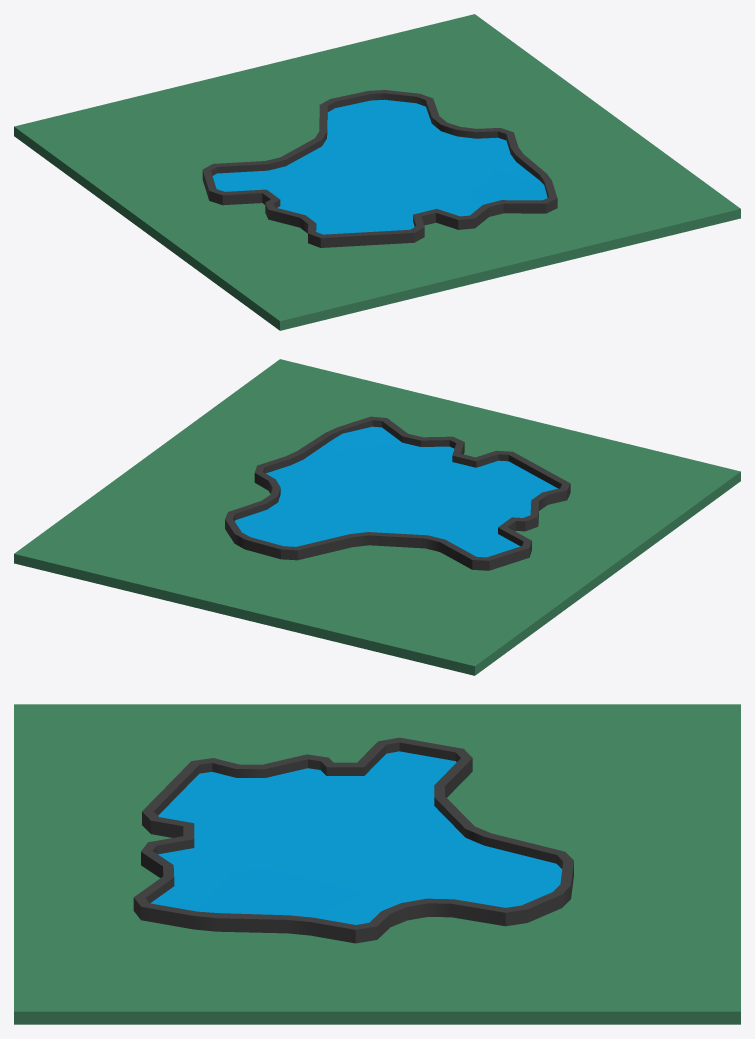
Rendered from pond.fbx.
The picture shows the model from 3 angles, top to bottom: view 1: azimuth 30°, elevation 25°; view 2: azimuth 150°, elevation 25°; view 3: azimuth 270°, elevation 25°; orthographic projection. The views are drawn at different scales.
Visible parts, largest first — view 1: pCylinder4; view 2: pCylinder4; view 3: pCylinder4.
Part boxes in pixels (<box>): pCylinder4: <box>14,14,740,330</box>; pCylinder4: <box>14,359,740,675</box>; pCylinder4: <box>14,704,740,1024</box>.
Bounding box in the file's own units: 140 × 5.79 × 140.
